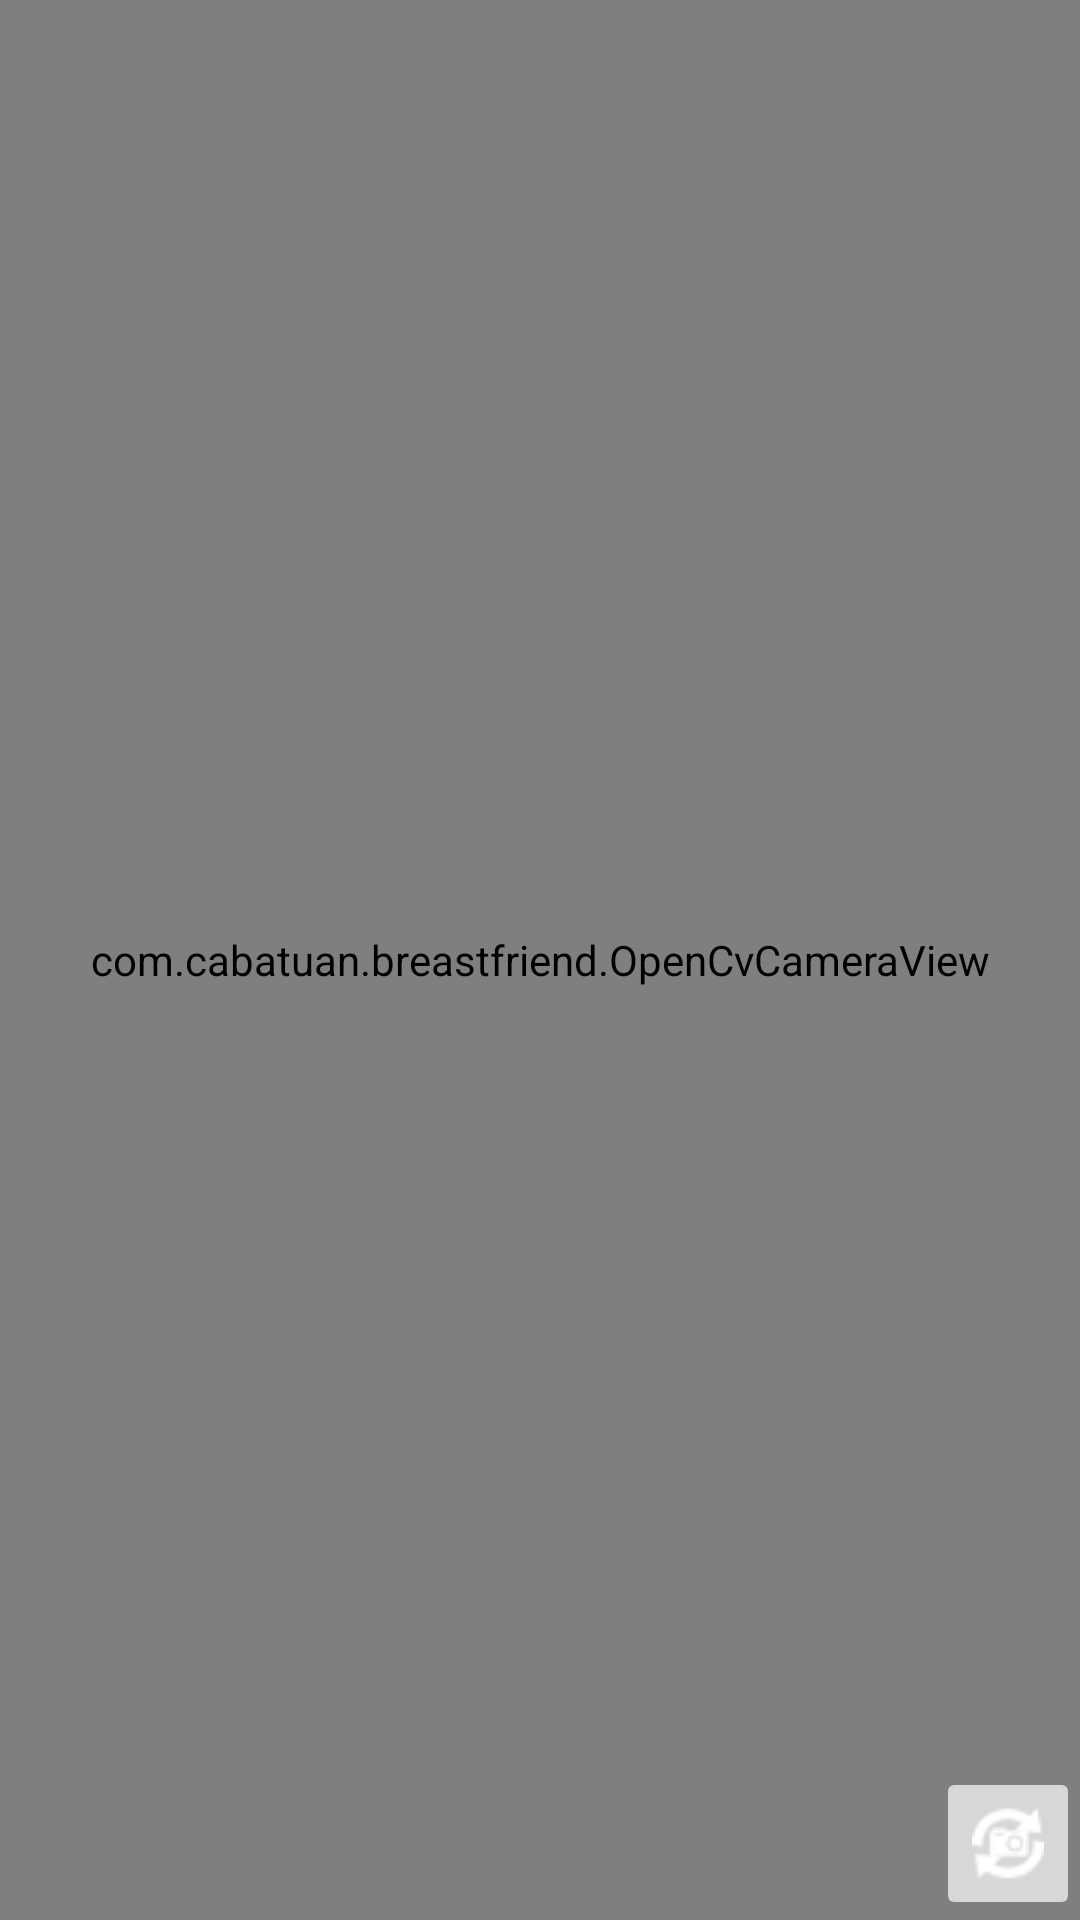

Icons on this 1080 × 1920 Android screen, each with its box as [left=x1, top=y1, right=x2, bottom=y2]:
reverse: [left=948, top=1785, right=1068, bottom=1902]
